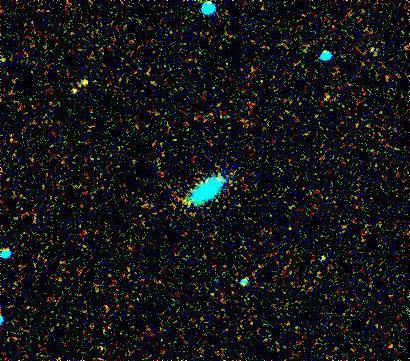star: (69, 66, 99, 96)
